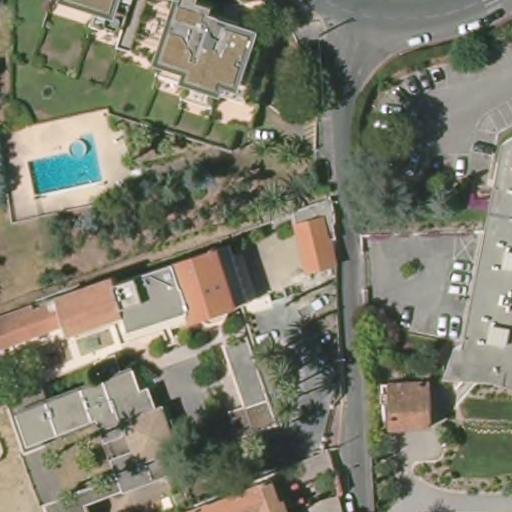pool: (25, 132, 104, 198)
